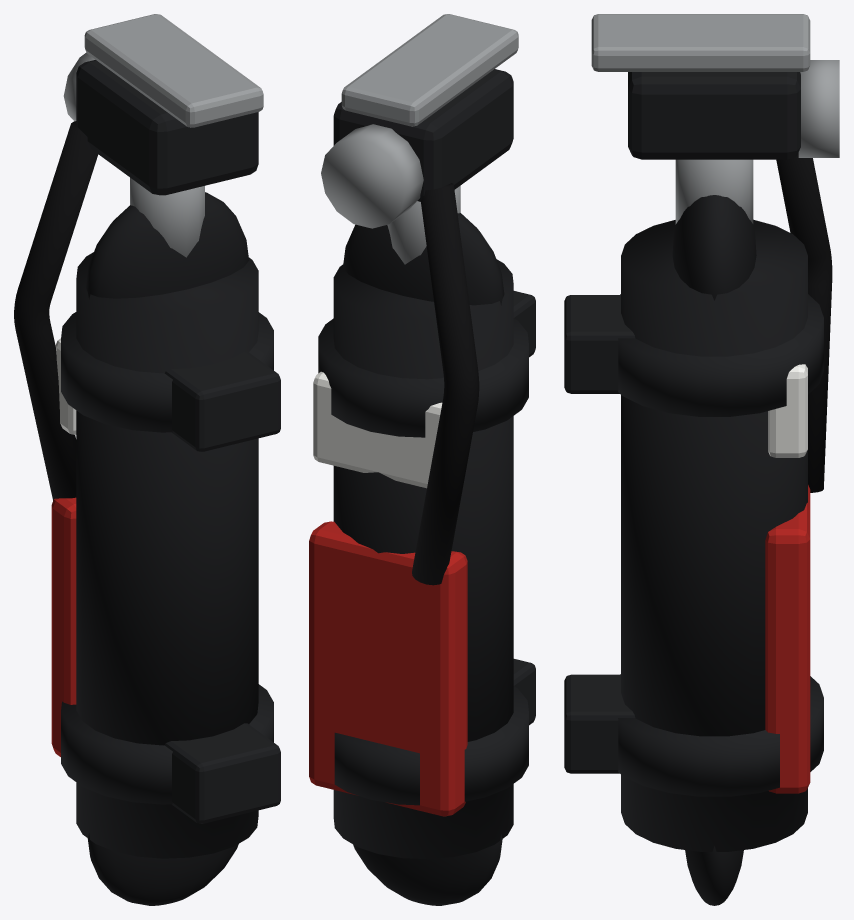
The model's file is extinguisher_right.glb.
3 renders of one model, left to right at view 1: azimuth 30°, elevation 25°; view 2: azimuth 150°, elevation 25°; view 3: azimuth 270°, elevation 25°, orthographic. The views are drawn at different scales.
Visible parts, largest first — view 1: bottle.003, head.002, hose.002, lever.002, domeTop.002, bandFoot1392.001, bandFoot1208.001, band1392.001, band1208.001, label.004, domeBase.002, neck.002 (+2 smaller); view 2: bottle.003, label.004, hose.002, lever.002, band1392.001, head.002, band1208.001, gauge.002, domeTop.002, labelText.002, domeBase.002, neck.002 (+2 smaller); view 3: bottle.003, head.002, lever.002, band1392.001, label.004, band1208.001, hose.002, domeTop.002, bandFoot1208.001, bandFoot1392.001, gauge.002, neck.002 (+2 smaller).
Boxes of the visible parts, box(x1,y1,x2,y2) form: bottle.003: box(76, 252, 258, 858); head.002: box(76, 60, 258, 195); hose.002: box(14, 121, 98, 500); lever.002: box(84, 14, 263, 127); domeTop.002: box(86, 192, 249, 299); bandFoot1392.001: box(164, 351, 280, 451); bandFoot1208.001: box(164, 723, 280, 823); band1392.001: box(61, 312, 273, 432); band1208.001: box(61, 684, 273, 804); label.004: box(51, 497, 76, 756); domeBase.002: box(87, 833, 238, 905); neck.002: box(130, 177, 204, 257); bottle.003: box(333, 259, 513, 859); label.004: box(309, 521, 467, 816); hose.002: box(412, 183, 479, 585); lever.002: box(341, 14, 518, 126); band1392.001: box(318, 318, 528, 437); head.002: box(333, 69, 513, 201); band1208.001: box(334, 686, 528, 805); gauge.002: box(321, 124, 423, 228); domeTop.002: box(343, 213, 504, 305); labelText.002: box(313, 371, 442, 488); domeBase.002: box(353, 834, 502, 905); neck.002: box(387, 185, 460, 264); bottle.003: box(621, 219, 807, 851); head.002: box(628, 72, 800, 159); lever.002: box(591, 14, 810, 71); band1392.001: box(618, 294, 823, 416); label.004: box(765, 485, 810, 793); band1208.001: box(618, 674, 823, 796); hose.002: box(776, 152, 832, 492); domeTop.002: box(672, 195, 756, 300); bandFoot1208.001: box(564, 674, 635, 773); bandFoot1392.001: box(564, 295, 635, 393); gauge.002: box(798, 60, 839, 157); neck.002: box(675, 159, 753, 224).
Size of the model in its own units: 0.1006 by 0.42 by 0.121.
